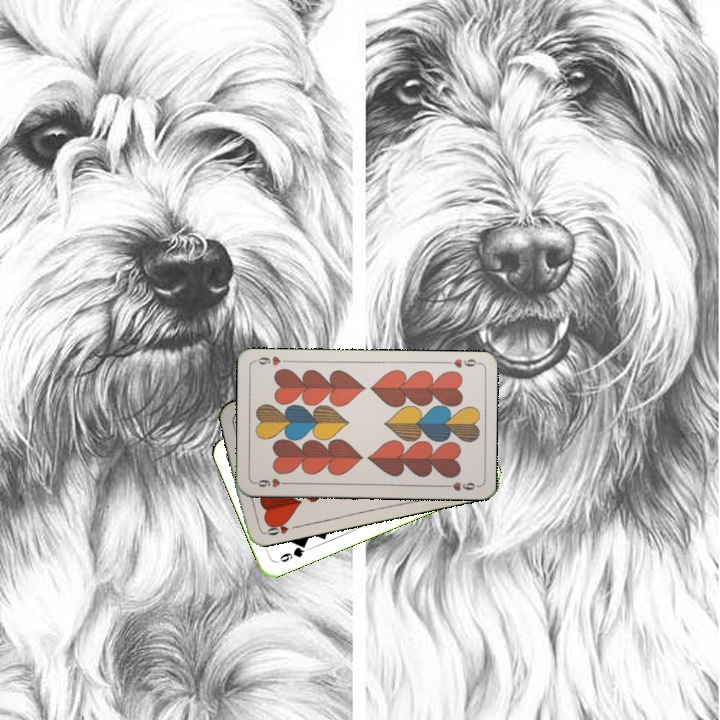G9: (276, 539, 309, 565)
H9: (251, 474, 291, 490), (441, 355, 481, 370)
HO: (259, 516, 300, 538)
